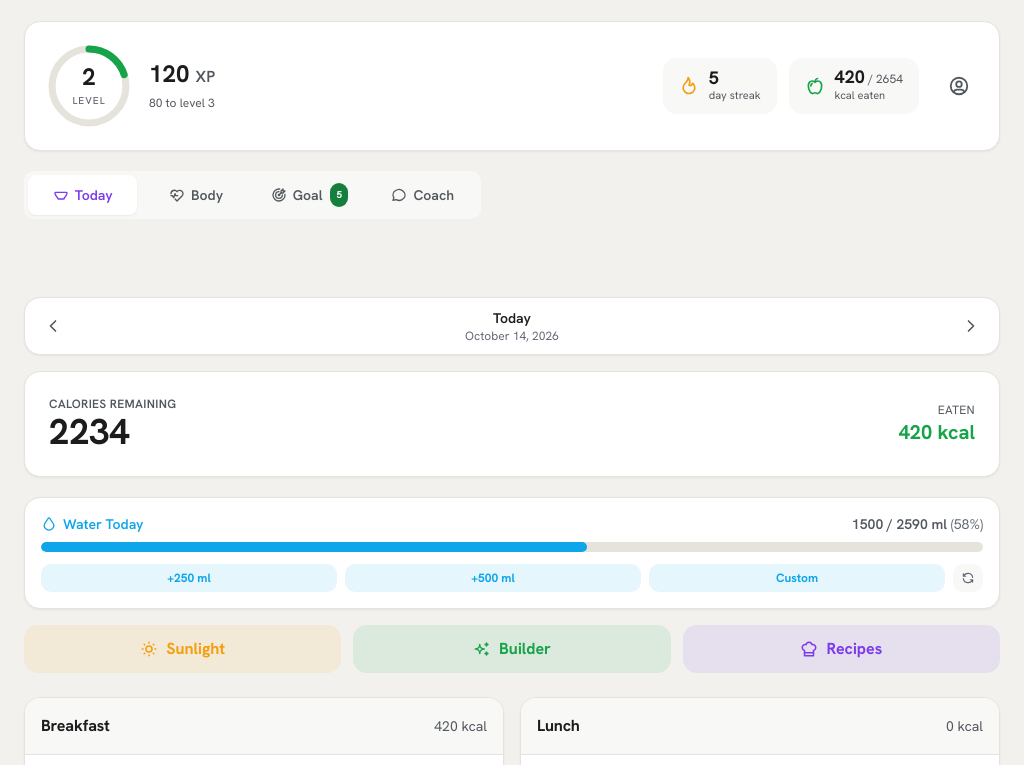
Test case: Body › keeps PDF export reachable
Step 1. Click the tab "Body" → point(196, 195), box [141,175,251,215]
(page scrolled)
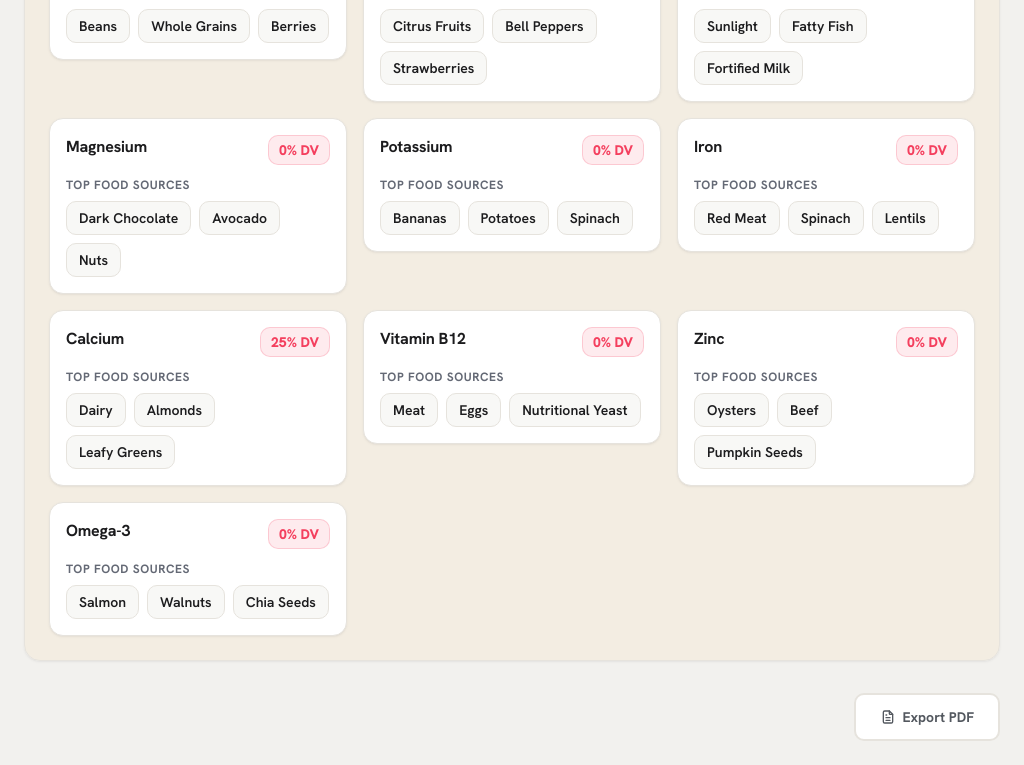
expect the button "Export PDF" is shown: met, box [854,693,1000,741]
